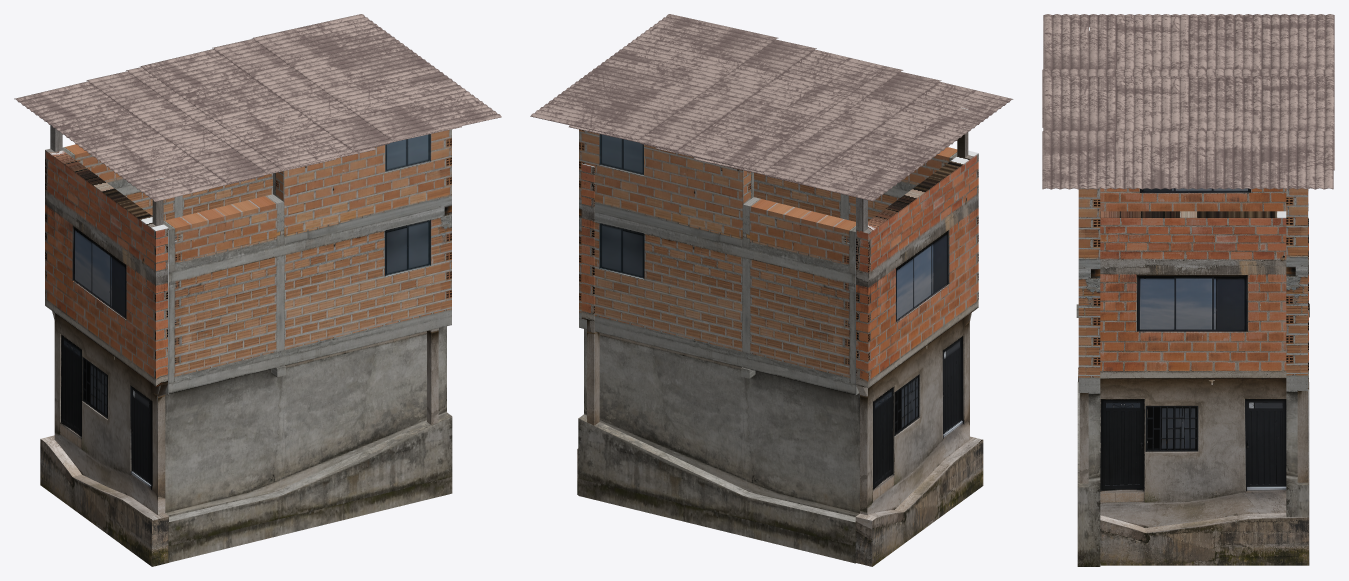
File: casa_izquierda_05.fbx
3 views of the same model, side by side, from view 1: azimuth 30°, elevation 25°; view 2: azimuth 150°, elevation 25°; view 3: azimuth 270°, elevation 25° (orthographic). The views are drawn at different scales.
Parts seen in each view (by area): view 1: casa_izquierda_05B.002, Techo 05, casa_izquierda_05A, casa_izquierda_05B.001, casa_izquierda_05A.001; view 2: casa_izquierda_05B.001, Techo 05, casa_izquierda_05A, casa_izquierda_05B.002, casa_izquierda_05A.001; view 3: casa_izquierda_05A.001, Techo 05, casa_izquierda_05B.002, casa_izquierda_05B.001, casa_izquierda_05A.
Boxes of the visible parts, x1=… form: casa_izquierda_05B.002: x1=163, y1=129, x2=452, y2=562; Techo 05: x1=14, y1=14, x2=501, y2=201; casa_izquierda_05A: x1=40, y1=125, x2=168, y2=566; casa_izquierda_05B.001: x1=62, y1=144, x2=272, y2=220; casa_izquierda_05A.001: x1=427, y1=328, x2=438, y2=424; casa_izquierda_05B.001: x1=578, y1=129, x2=859, y2=563; Techo 05: x1=530, y1=14, x2=1013, y2=201; casa_izquierda_05A: x1=855, y1=107, x2=983, y2=566; casa_izquierda_05B.002: x1=754, y1=147, x2=957, y2=221; casa_izquierda_05A.001: x1=577, y1=163, x2=599, y2=494; casa_izquierda_05A.001: x1=1079, y1=211, x2=1308, y2=565; Techo 05: x1=1042, y1=14, x2=1334, y2=189; casa_izquierda_05B.002: x1=1076, y1=188, x2=1100, y2=566; casa_izquierda_05B.001: x1=1286, y1=188, x2=1309, y2=565; casa_izquierda_05A: x1=1078, y1=27, x2=1308, y2=382.
Size of the model in its own units: 1315 by 1398 by 930.
